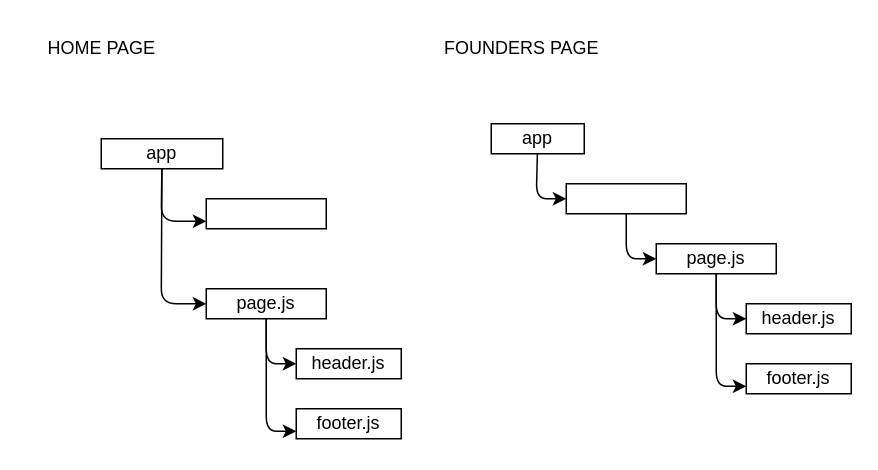
The diagram is 878 pixels wide and 470 high, and some of its shapes have lost their labels. Here are the shapes that lost their labels. From the top down, the box of each, then its label:
(205, 197, 326, 229): layout.js
(565, 182, 686, 214): founders
